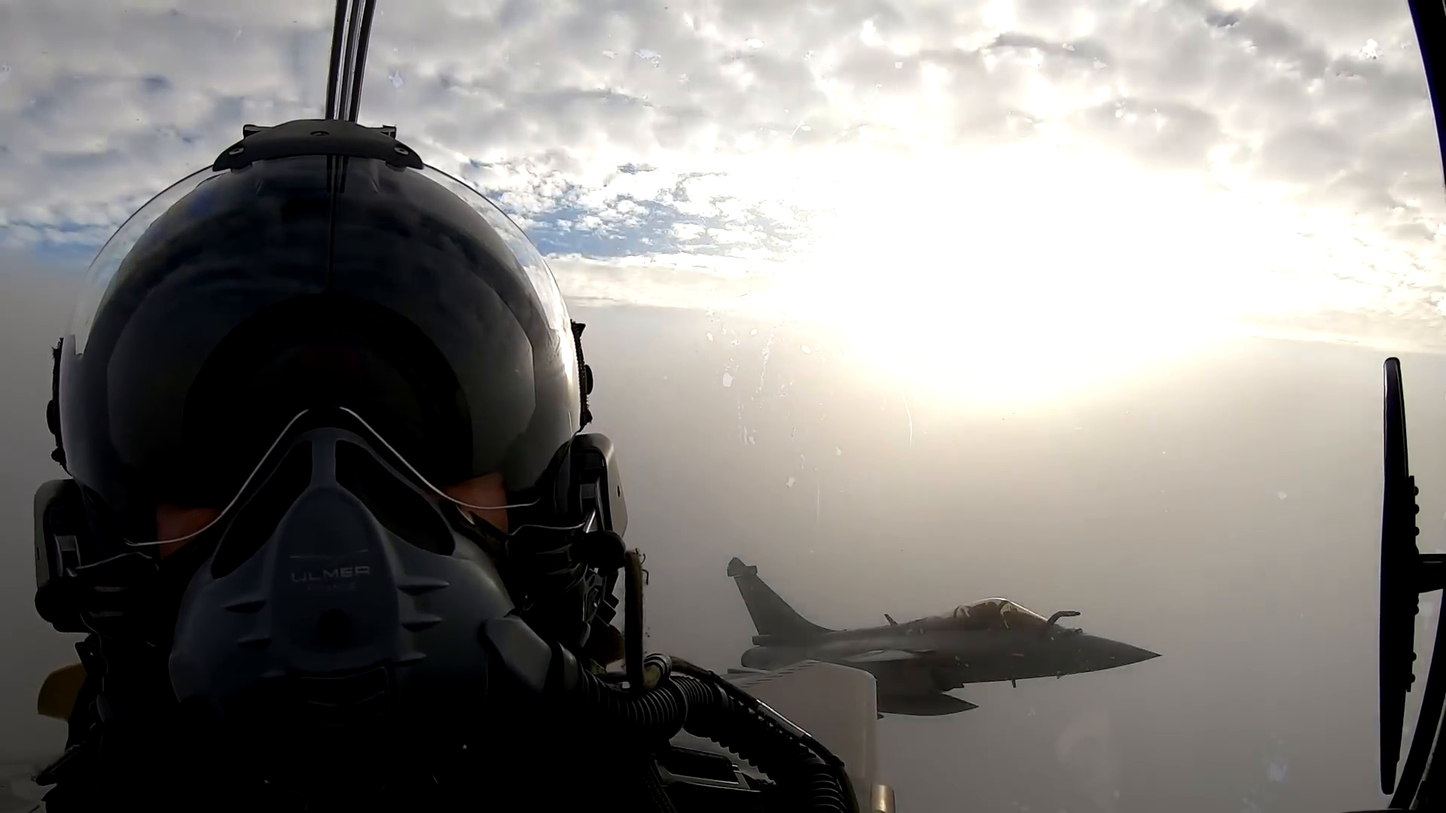Rafale: (722, 555, 1162, 717)
